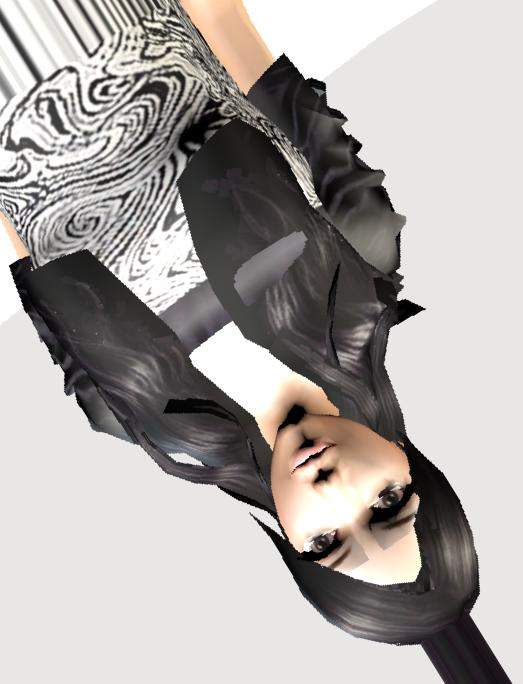clip: (221, 251, 315, 282)
